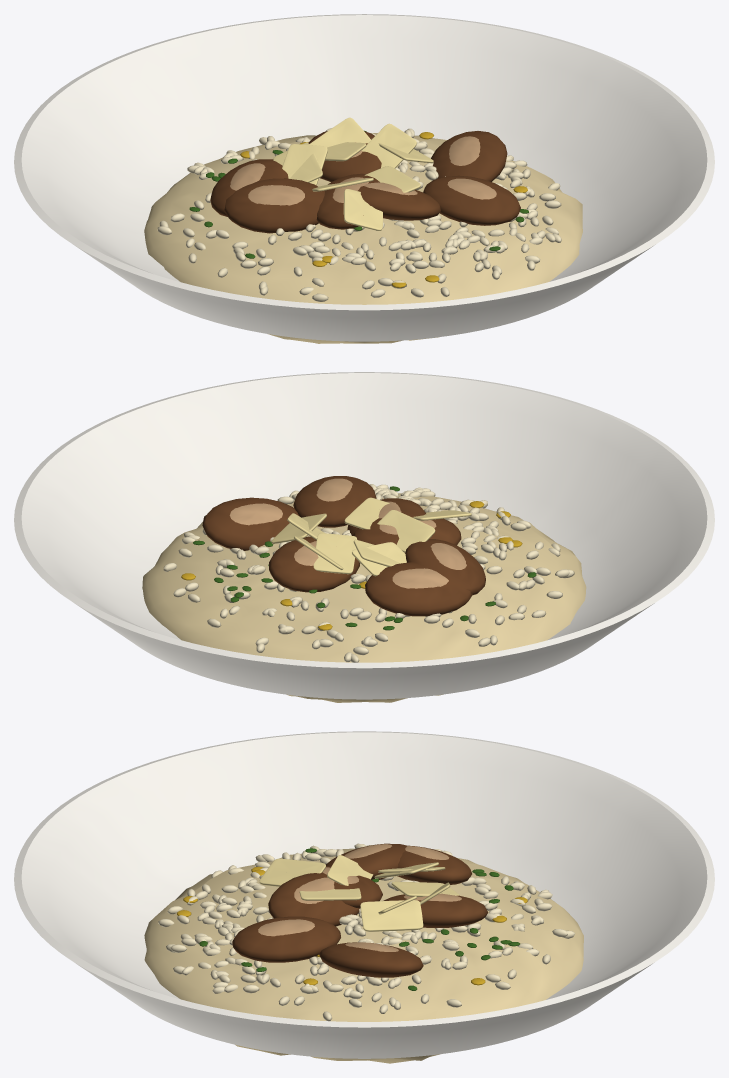
File: risotto-hongos.glb
3 views of the same model, one above another, from view 1: azimuth 30°, elevation 25°; view 2: azimuth 150°, elevation 25°; view 3: azimuth 270°, elevation 25° (orthographic).
Visible parts, largest first — view 1: risotto-hongos; view 2: risotto-hongos; view 3: risotto-hongos.
Part boxes in pixels (x1,y1,x2,y2): risotto-hongos: (14,14,714,343); risotto-hongos: (14,372,714,702); risotto-hongos: (14,731,714,1063).
Size of the model in its own units: 0.276 by 0.058 by 0.276.
